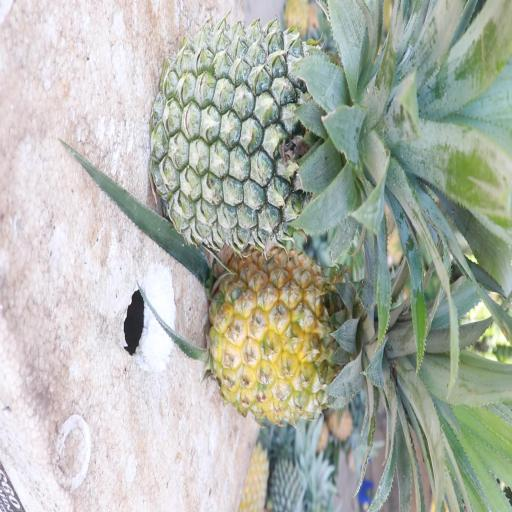Pineapple - v8 v1: (214, 250, 465, 494)
